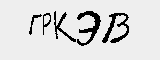В: (100, 10, 131, 46)
Г: (25, 12, 41, 37)
К: (51, 11, 77, 41)
Р: (40, 10, 52, 38)
Э: (76, 9, 101, 48)
